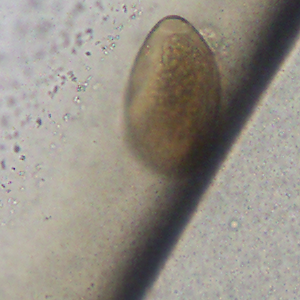Fasciola_hepatica_egg: (122, 14, 223, 181)
